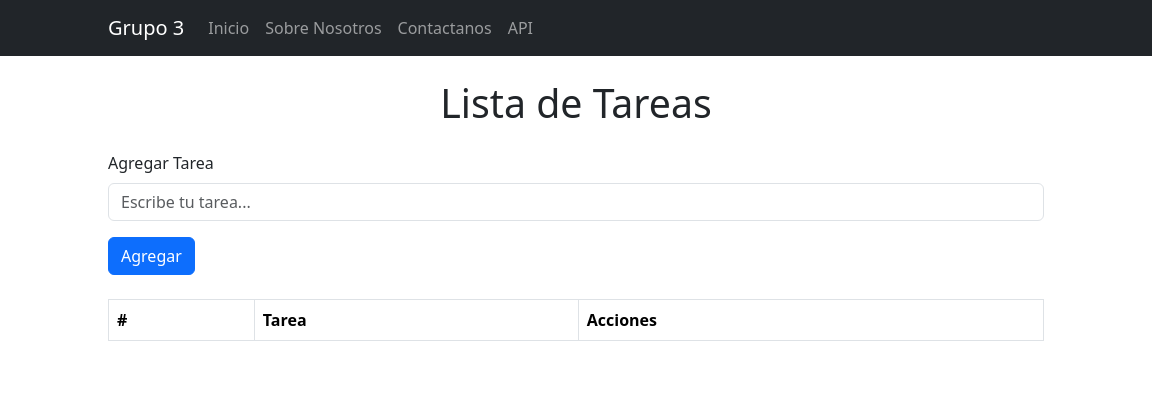
Add Task Tests › Debe agregar una tarea y mostrarla en la tabla
Type "Test Task" into the field with placeholder "Escribe tu tarea...".
click(576, 202); type("Test Task")  # box [108,183,1044,221]
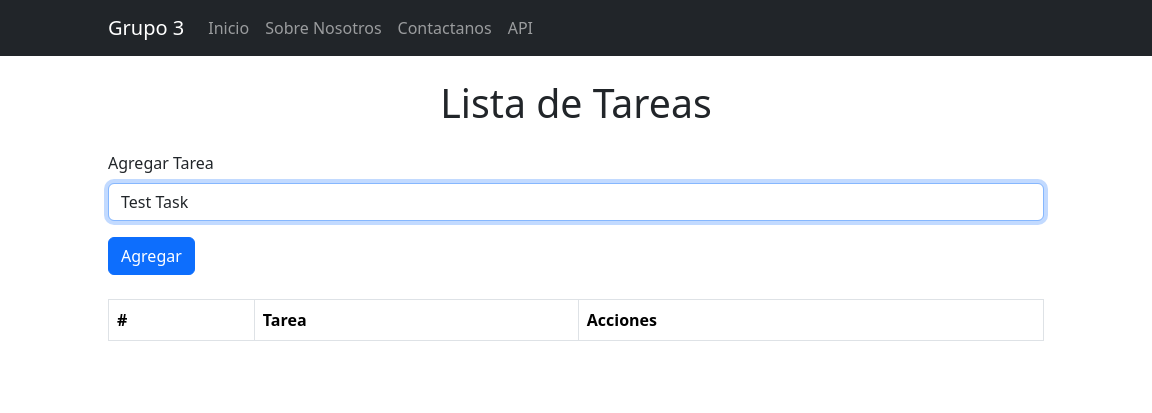
Click the button "Agregar".
click(152, 256)  # box [108,237,195,275]
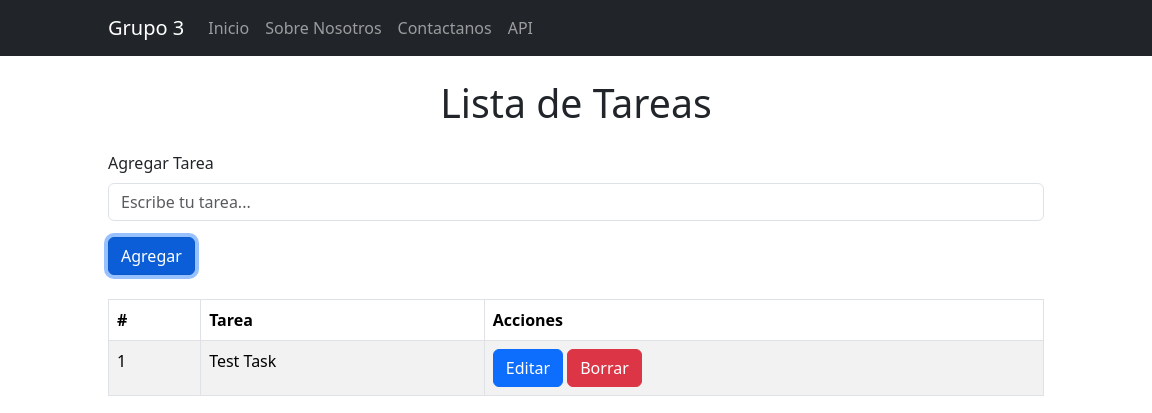
Expected: the cell "Test Task" is shown, [201,341,484,396]
